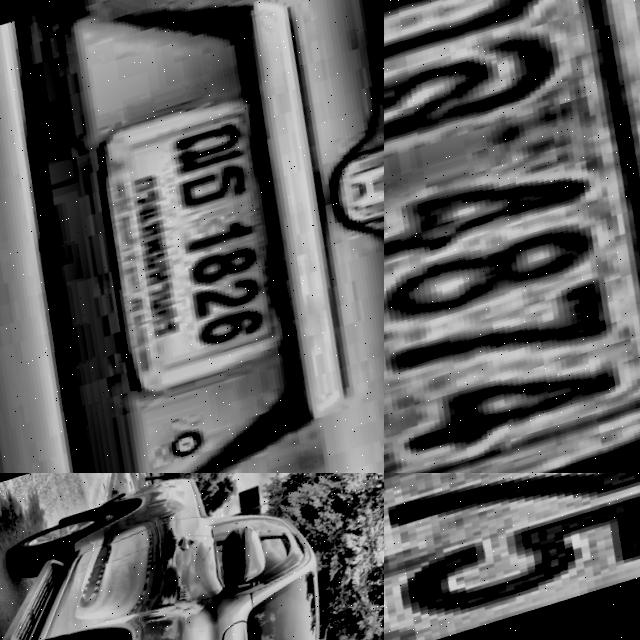license-plate: (384, 0, 640, 473), (70, 78, 343, 415), (384, 473, 640, 640)
